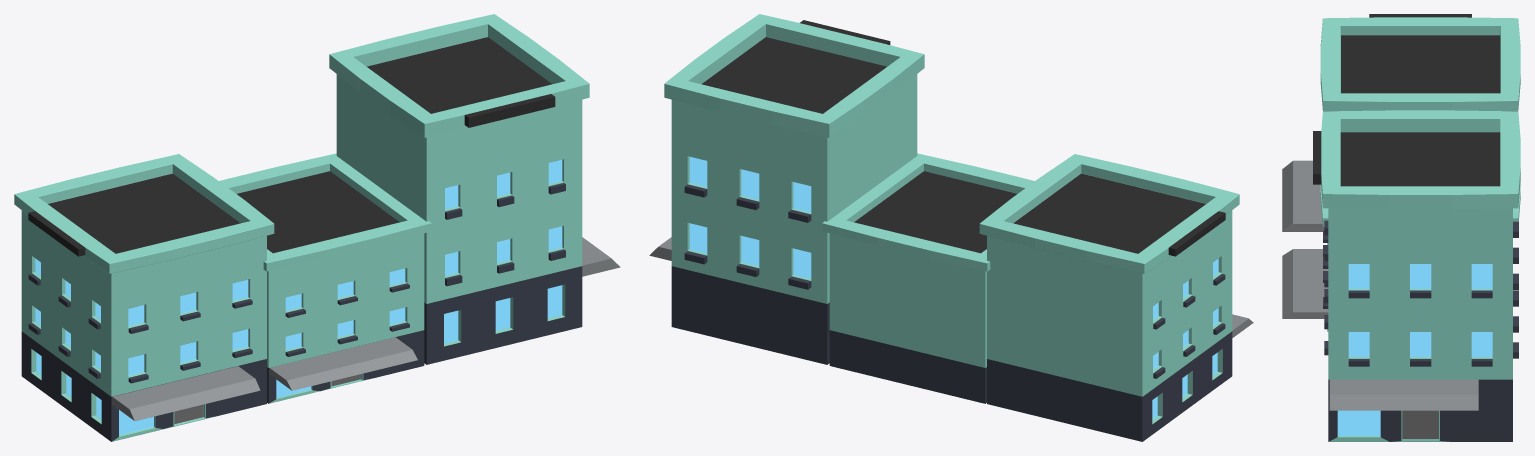
Rendered from gedung4.glb.
3 views of the same model, side by side, from view 1: azimuth 30°, elevation 25°; view 2: azimuth 150°, elevation 25°; view 3: azimuth 270°, elevation 25° (orthographic). The views are drawn at different scales.
Visible parts, largest first — view 1: Plane.001, Plane.002, Plane; view 2: Plane.001, Plane.002, Plane; view 3: Plane.001, Plane.002, Plane.
Boxes of the visible parts, x1,y1,x2,y2 form: Plane.001: (329, 14, 620, 364); Plane.002: (14, 154, 274, 441); Plane: (219, 153, 431, 403); Plane.001: (649, 14, 924, 364); Plane.002: (979, 154, 1253, 441); Plane: (822, 153, 1034, 403); Plane.001: (1313, 110, 1520, 441); Plane.002: (1282, 14, 1520, 244); Plane: (1282, 182, 1520, 331).
Bounding box in the file's own units: 12.7 × 5.67 × 4.89.
